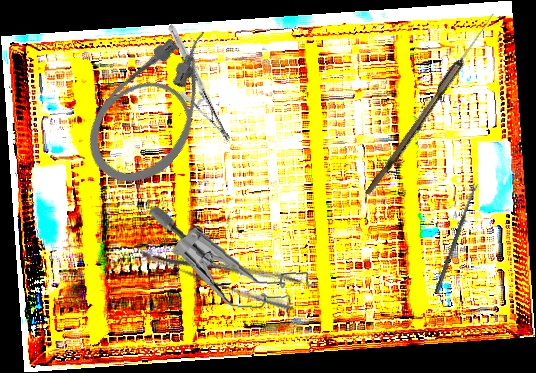Cannula: (70, 12, 249, 202)
Dressing Forceps: (140, 225, 304, 315)
Needle Holder: (134, 24, 265, 142)
Speculum: (143, 204, 321, 316)
Surgical Spoon: (364, 10, 498, 199), (434, 182, 479, 295)
